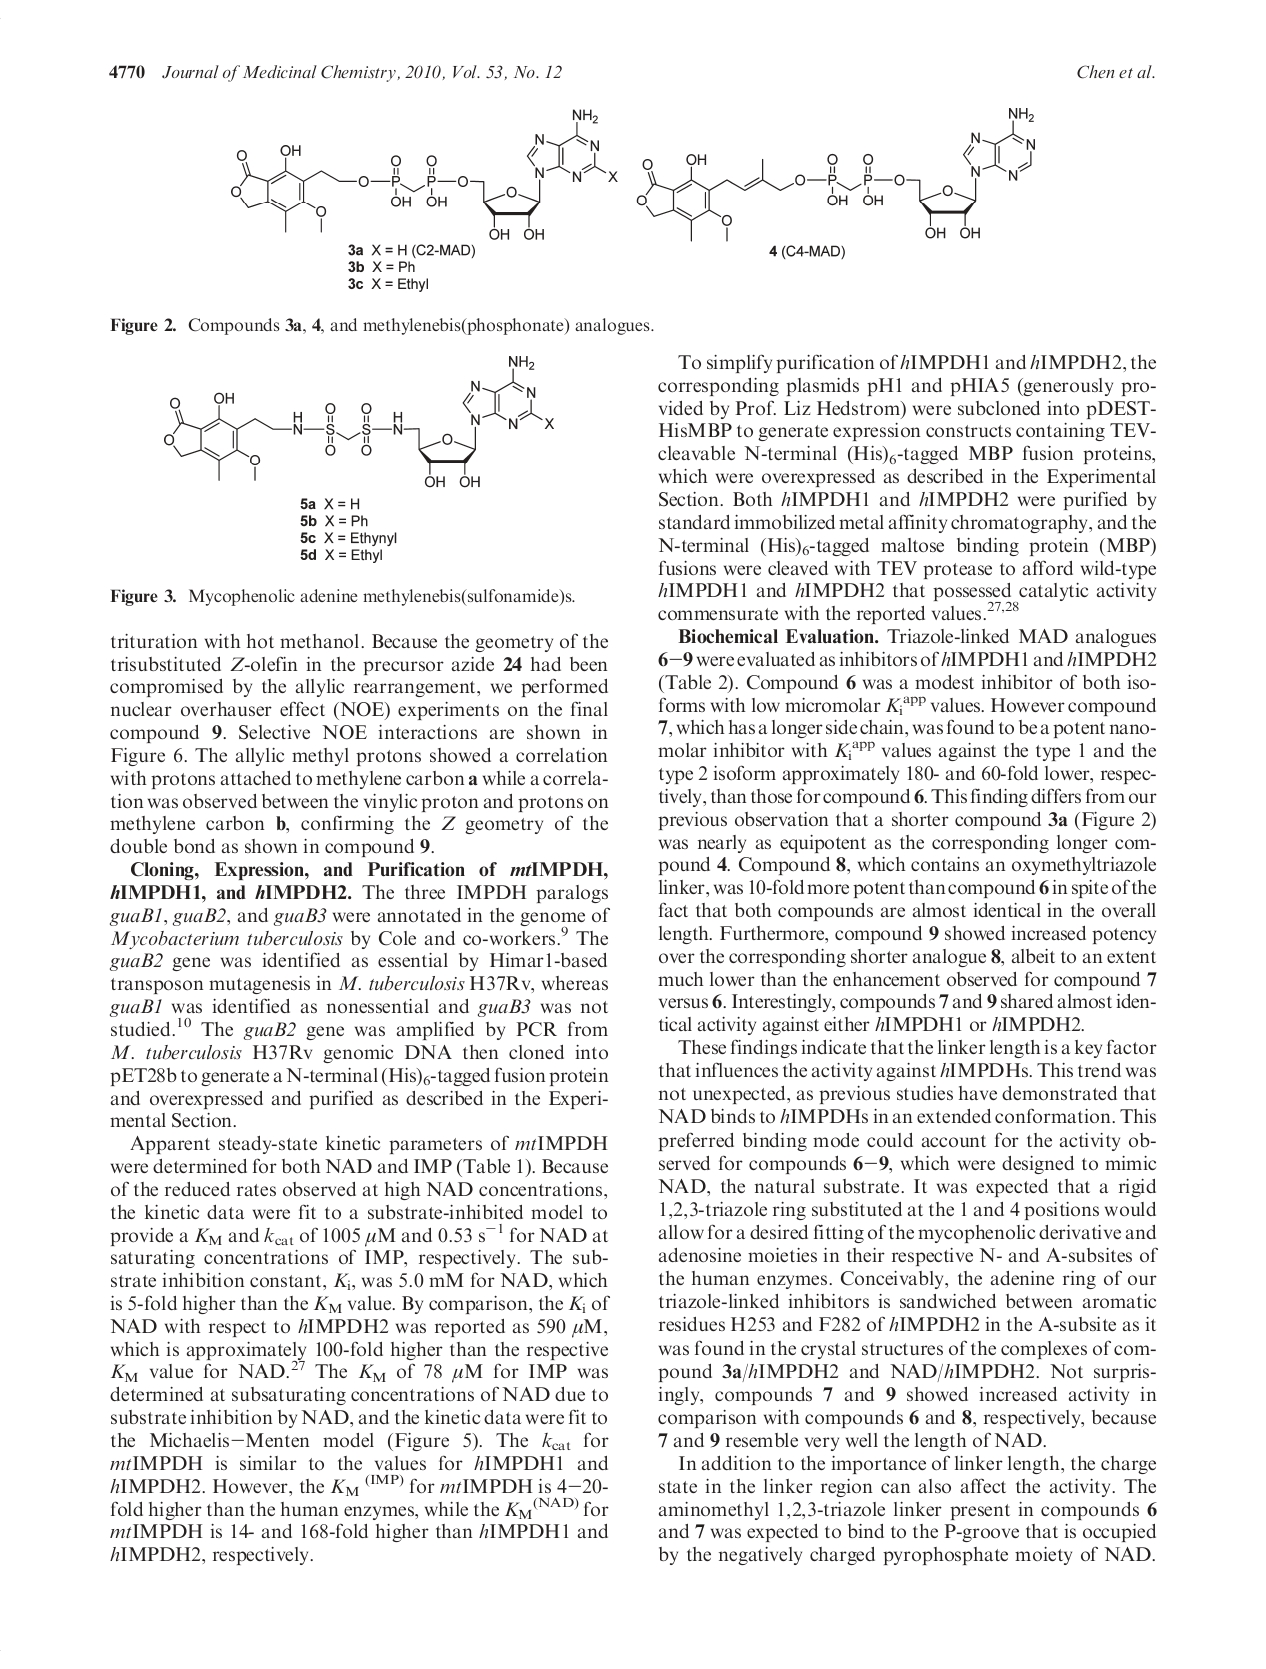exist_molecular: (630, 101, 1049, 243), (229, 104, 622, 239), (164, 355, 559, 487)
